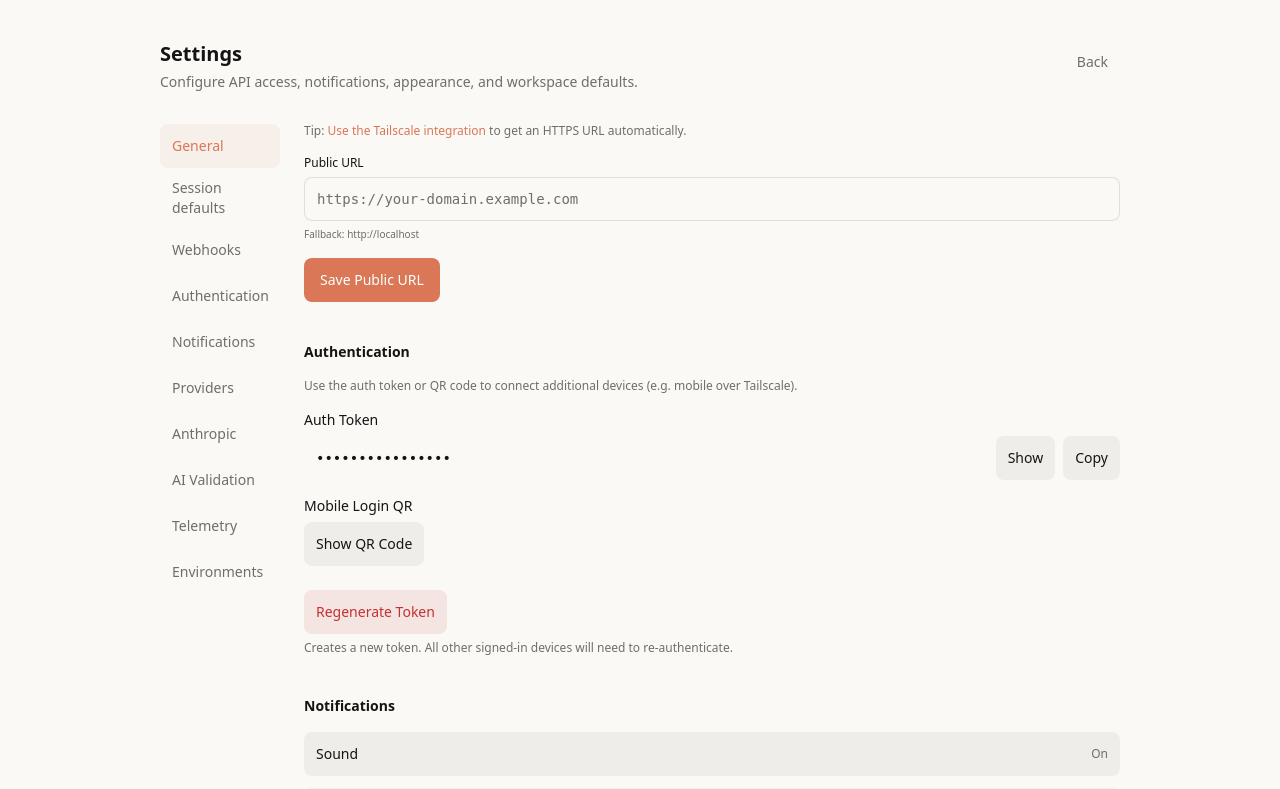
Test case: SettingsPage › reveals the token when Show is clicked
(page scrolled)
Expected: the text "••••••••••••••••" is shown, [304,436,988,480]
Click the button titled "Show token": (1025, 458) [996,436,1055,480]
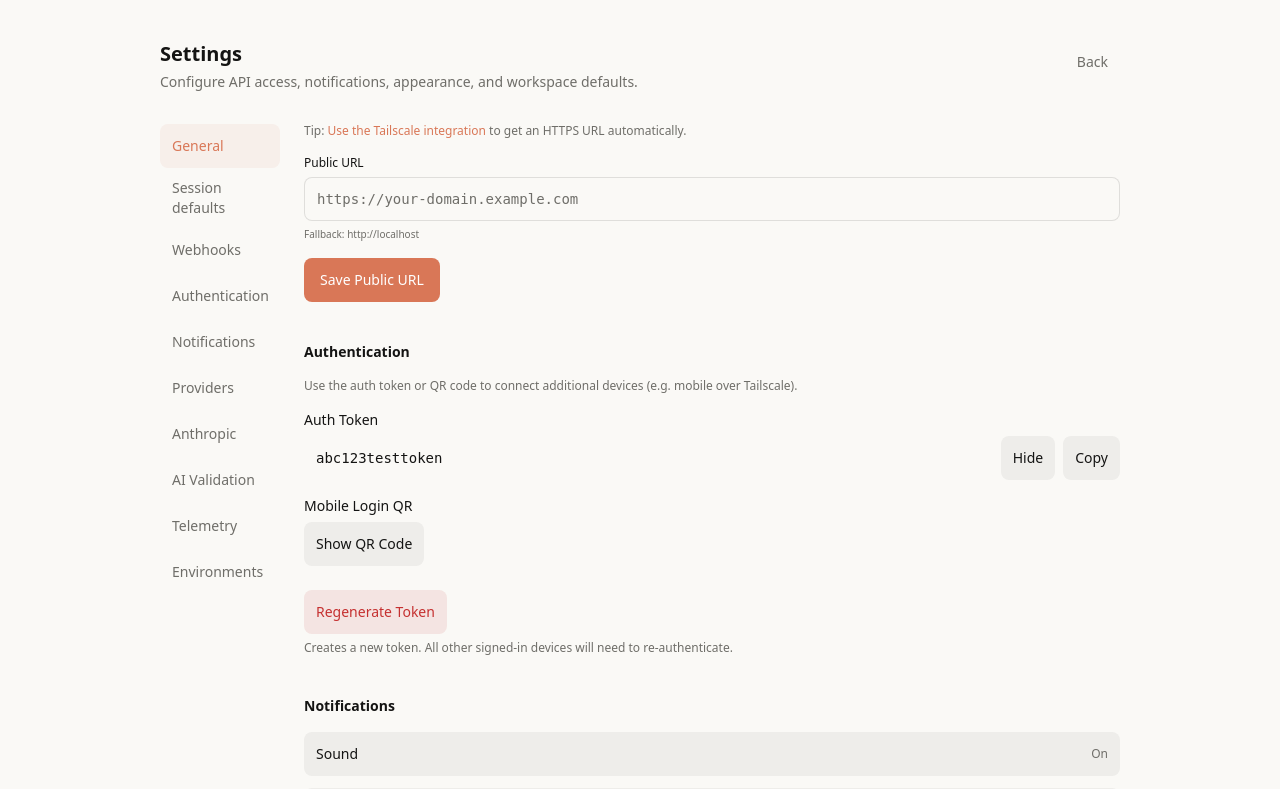
Expected: the text "abc123testtoken" is shown, [304,436,993,480]
